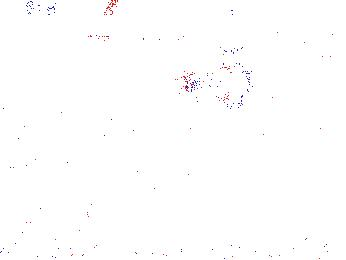flame jellyfish: (145, 151, 208, 225), (5, 168, 77, 222), (183, 58, 256, 110)
